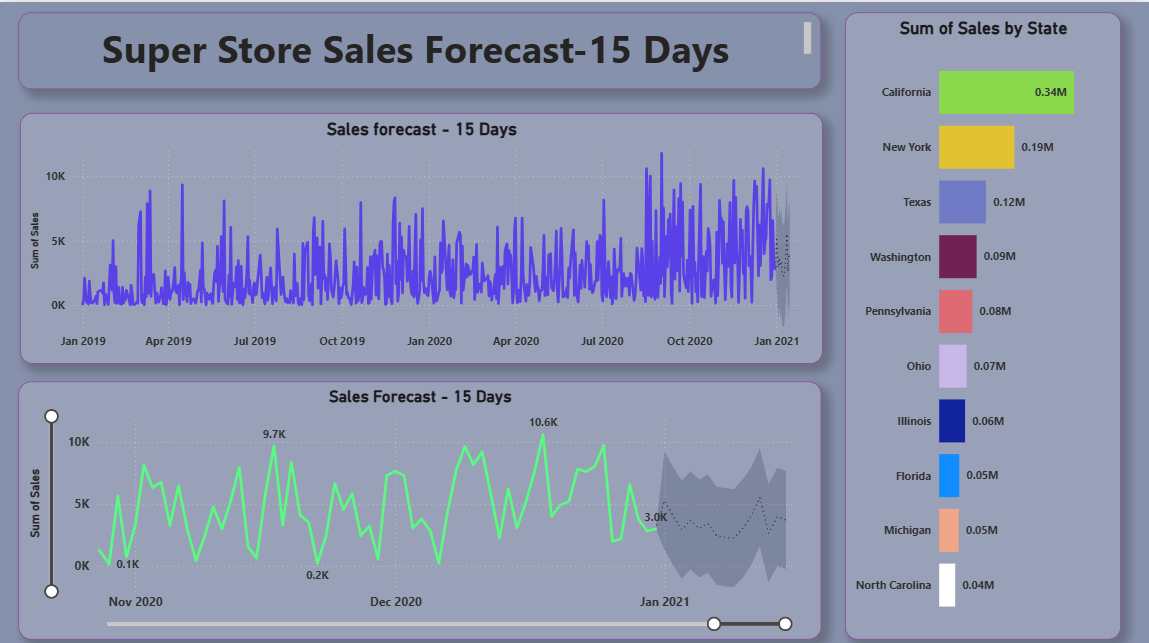

What the dashboard file says about the page in this screenshot:
{"tool":"powerbi","page":{"name":"Page 2","canvas":[1280,720],"ordinal":1},"visuals":[{"type":"lineChart","title":"Sales forecast - 15 Days","fields":{"Y":["Sum(SuperStore_Sales_Dataset (1).Sales)"],"Category":["SuperStore_Sales_Dataset (1).Order Date"]},"box":[23.3,123.3,891.7,278.3],"z":0},{"type":"lineChart","title":"Sales Forecast - 15 Days","fields":{"Y":["Sum(SuperStore_Sales_Dataset (1).Sales)"],"Category":["SuperStore_Sales_Dataset (1).Order Date"]},"box":[21.7,421.7,891.7,286.7],"z":1000},{"type":"textbox","box":[21.7,11.7,891.7,85],"z":2000},{"type":"barChart","fields":{"Category":["SuperStore_Sales_Dataset (1).State"],"Y":["Sum(SuperStore_Sales_Dataset (1).Sales)"]},"box":[940,11.7,306.7,696.7],"z":3000}]}

Visuals, with their boxes in screenshot pixels (x1, y1, x2, y2), scaled from the page's 1280x720 canvas onto the 1149x643 screenshot:
"Sales forecast - 15 Days" lineChart: [x1=21, y1=110, x2=821, y2=359]
"Sales Forecast - 15 Days" lineChart: [x1=19, y1=377, x2=820, y2=633]
textbox: [x1=19, y1=10, x2=820, y2=86]
barChart - SuperStore_Sales_Dataset (1).State x Sum(SuperStore_Sales_Dataset (1).Sales): [x1=844, y1=10, x2=1119, y2=633]
